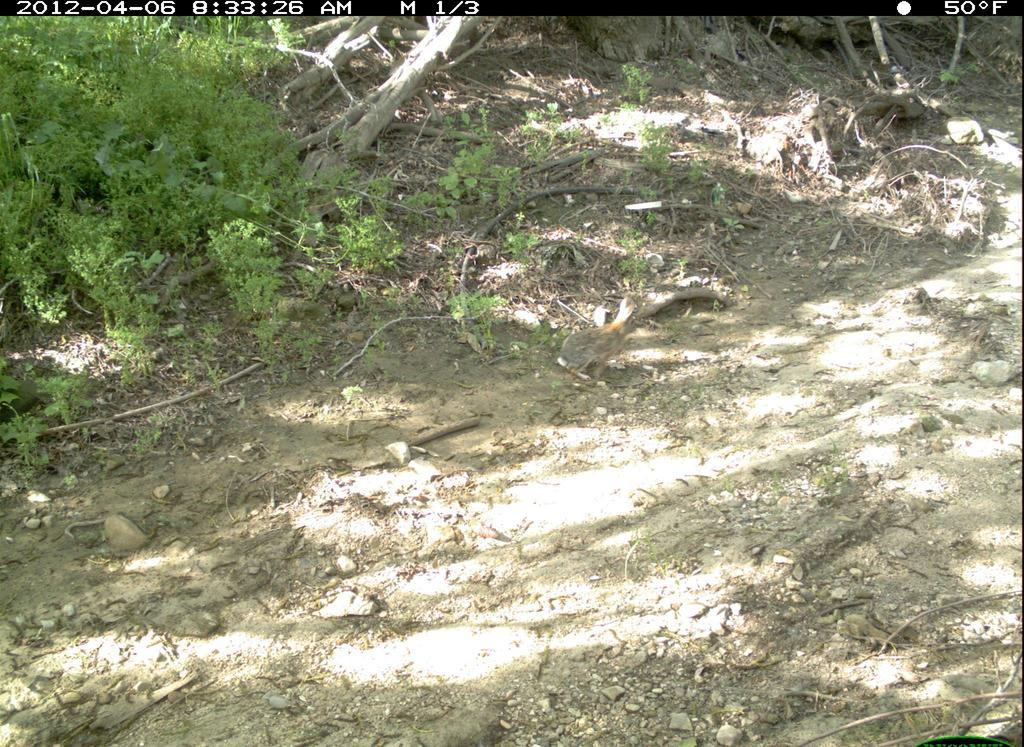rabbit: (560, 294, 646, 402)
